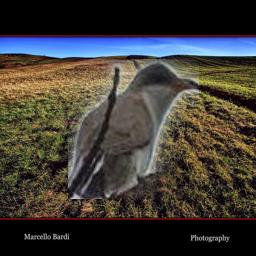Cuckoo: (68, 59, 199, 199)
